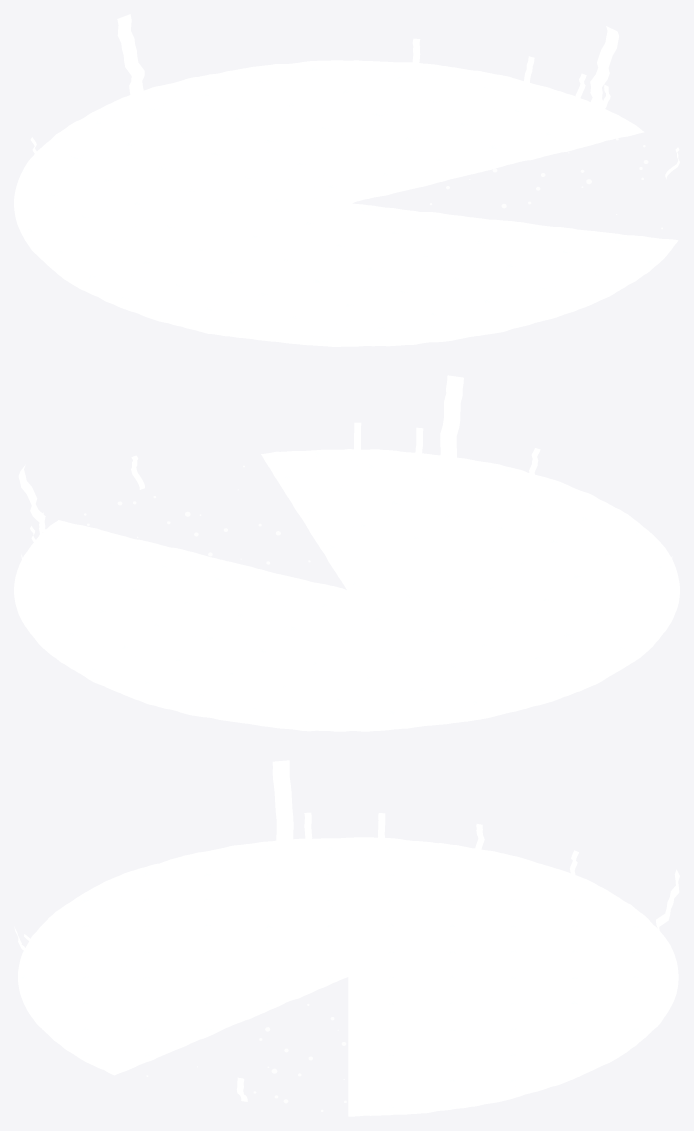
Rendered from map_acid_01.glb.
The picture shows the model from 3 angles, top to bottom: view 1: azimuth 30°, elevation 25°; view 2: azimuth 150°, elevation 25°; view 3: azimuth 270°, elevation 25°; orthographic projection. The views are drawn at different scales.
Visible parts, largest first — view 1: AcidPool_5__acid_00, AcidPool_1__acid_00, AcidPool_2__acid_00, AcidPool_3__acid_00, AcidPool_4__acid_00, AcidPool_0__acid_00, AcidPool_6__acid_00, AcidFalls, AcidPool_2__acid_01, AcidPool_0__acid_01, AcidPool_1__acid_01, AcidPool_4__acid_01 (+4 smaller); view 2: AcidPool_5__acid_00, AcidPool_1__acid_00, AcidPool_0__acid_00, AcidPool_6__acid_00, AcidPool_3__acid_00, AcidPool_4__acid_00, AcidPool_2__acid_00, AcidFalls, AcidPool_4__acid_01, AcidPool_3__acid_01, AcidPool_0__acid_01, AcidPool_6__acid_01 (+4 smaller); view 3: AcidPool_1__acid_00, AcidPool_5__acid_00, AcidPool_3__acid_00, AcidPool_4__acid_00, AcidPool_2__acid_00, AcidPool_6__acid_00, AcidPool_0__acid_00, AcidFalls, AcidPool_2__acid_01, AcidPool_6__acid_01, AcidPool_5__acid_01, AcidPool_0__acid_01 (+4 smaller).
Boxes of the visible parts, x1=… form: AcidPool_5__acid_00: x1=265, y1=204, x2=466, y2=346; AcidPool_1__acid_00: x1=237, y1=60, x2=438, y2=202; AcidPool_2__acid_00: x1=46, y1=80, x2=351, y2=203; AcidPool_3__acid_00: x1=14, y1=166, x2=350, y2=252; AcidPool_4__acid_00: x1=59, y1=203, x2=351, y2=333; AcidPool_0__acid_00: x1=352, y1=74, x2=644, y2=203; AcidPool_6__acid_00: x1=352, y1=203, x2=657, y2=326; AcidFalls: x1=19, y1=14, x2=679, y2=327; AcidPool_2__acid_01: x1=25, y1=143, x2=350, y2=203; AcidPool_0__acid_01: x1=352, y1=65, x2=494, y2=202; AcidPool_1__acid_01: x1=183, y1=69, x2=351, y2=202; AcidPool_4__acid_01: x1=209, y1=205, x2=351, y2=340; AcidPool_5__acid_00: x1=347, y1=482, x2=668, y2=590; AcidPool_1__acid_00: x1=25, y1=590, x2=345, y2=698; AcidPool_0__acid_00: x1=14, y1=520, x2=345, y2=602; AcidPool_6__acid_00: x1=319, y1=449, x2=512, y2=589; AcidPool_3__acid_00: x1=347, y1=590, x2=600, y2=725; AcidPool_4__acid_00: x1=347, y1=579, x2=679, y2=660; AcidPool_2__acid_00: x1=181, y1=590, x2=375, y2=731; AcidFalls: x1=18, y1=375, x2=672, y2=720; AcidPool_4__acid_01: x1=348, y1=553, x2=678, y2=590; AcidPool_3__acid_01: x1=349, y1=591, x2=634, y2=681; AcidPool_0__acid_01: x1=15, y1=589, x2=345, y2=626; AcidPool_6__acid_01: x1=261, y1=450, x2=346, y2=589; AcidPool_1__acid_00: x1=349, y1=977, x2=673, y2=1075; AcidPool_5__acid_00: x1=23, y1=877, x2=346, y2=977; AcidPool_3__acid_00: x1=348, y1=840, x2=581, y2=976; AcidPool_4__acid_00: x1=160, y1=837, x2=348, y2=976; AcidPool_2__acid_00: x1=349, y1=897, x2=678, y2=977; AcidPool_6__acid_00: x1=18, y1=976, x2=347, y2=1056; AcidPool_0__acid_00: x1=348, y1=977, x2=536, y2=1116; AcidFalls: x1=14, y1=760, x2=679, y2=1107; AcidPool_2__acid_01: x1=350, y1=877, x2=618, y2=976; AcidPool_6__acid_01: x1=77, y1=978, x2=344, y2=1075; AcidPool_5__acid_01: x1=18, y1=952, x2=346, y2=977; AcidPool_0__acid_01: x1=350, y1=977, x2=581, y2=1091.
Bounding box in the file's own units: 700 × 91.13 × 698.
Materials: 3 (1 with a texture image).
